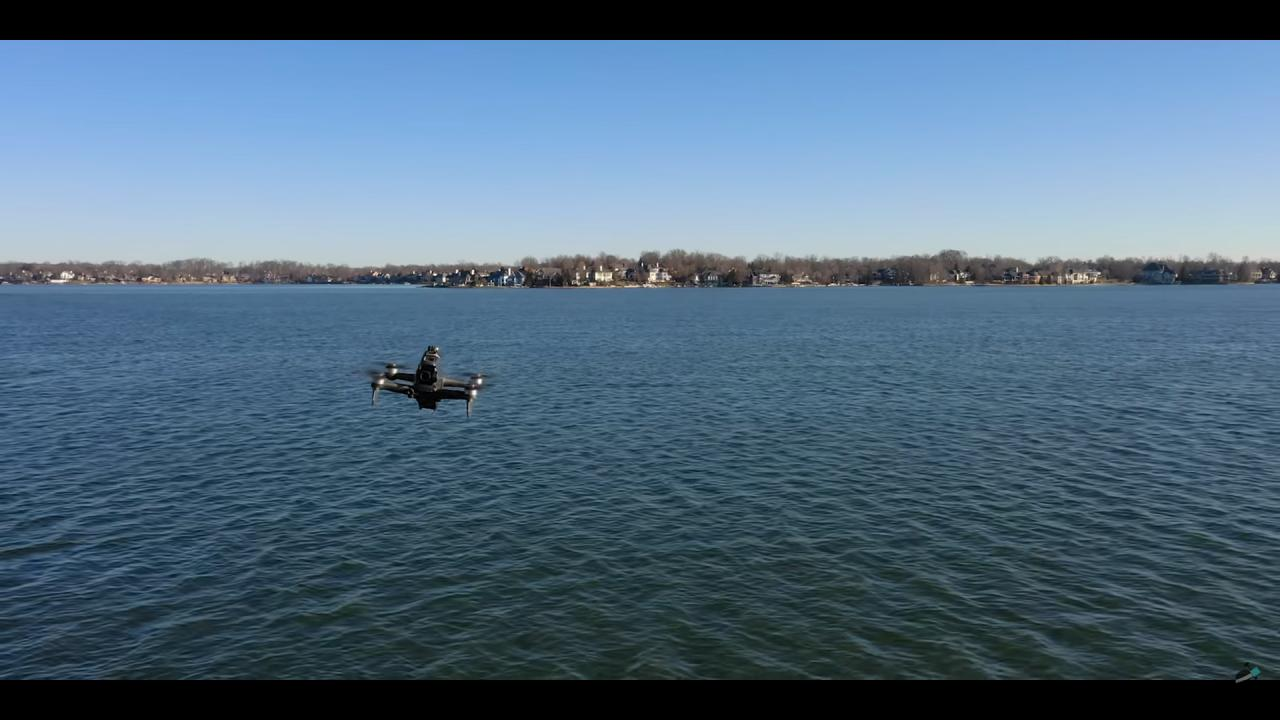Drone: (348, 327, 502, 427)
